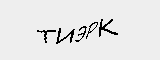Ж: (51, 19, 84, 44)
Р: (101, 20, 115, 40)
Ф: (82, 24, 100, 42)
Ш: (116, 21, 144, 41)
Я: (25, 14, 52, 44)
Ғ: (9, 15, 26, 37)
